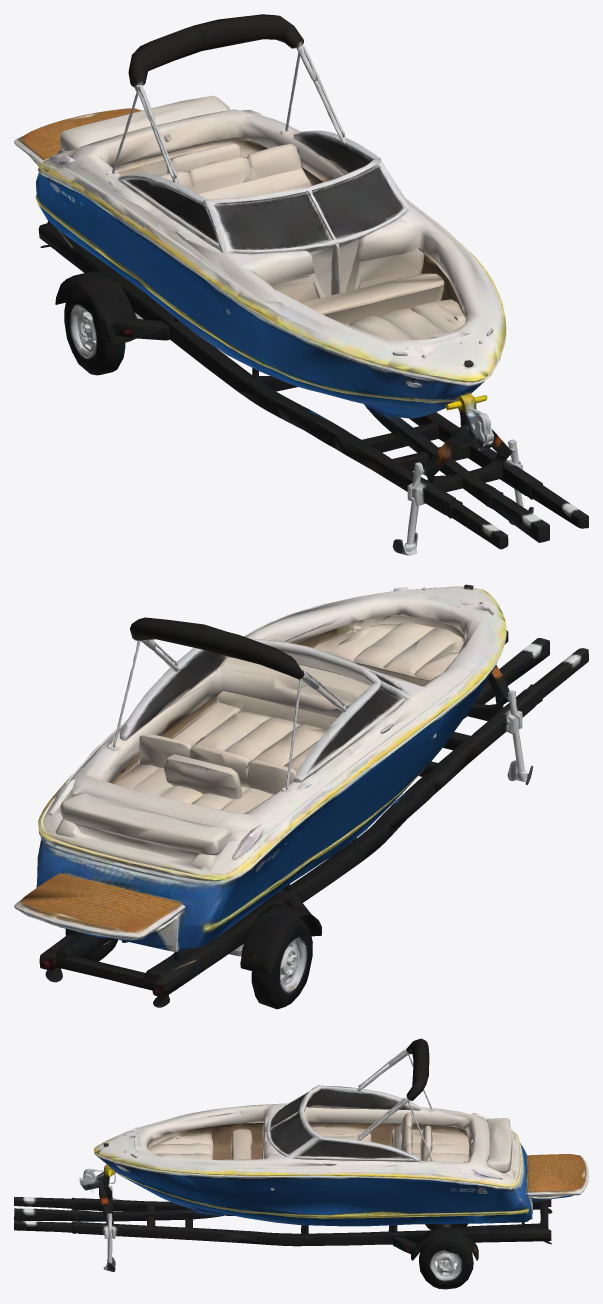
The model's file is boat.lo.glb.
The picture shows the model from 3 angles, top to bottom: view 1: azimuth 30°, elevation 25°; view 2: azimuth 150°, elevation 25°; view 3: azimuth 270°, elevation 25°; orthographic projection. The views are drawn at different scales.
Visible parts, largest first — view 1: model; view 2: model; view 3: model.
Part boxes in pixels (x1,y1,x2,y2): model: [14, 14, 588, 555]; model: [14, 584, 588, 1009]; model: [14, 1038, 588, 1289].
Size of the model in its own units: 0.5303 by 0.7508 by 1.9.
1 material, 1 textured.
